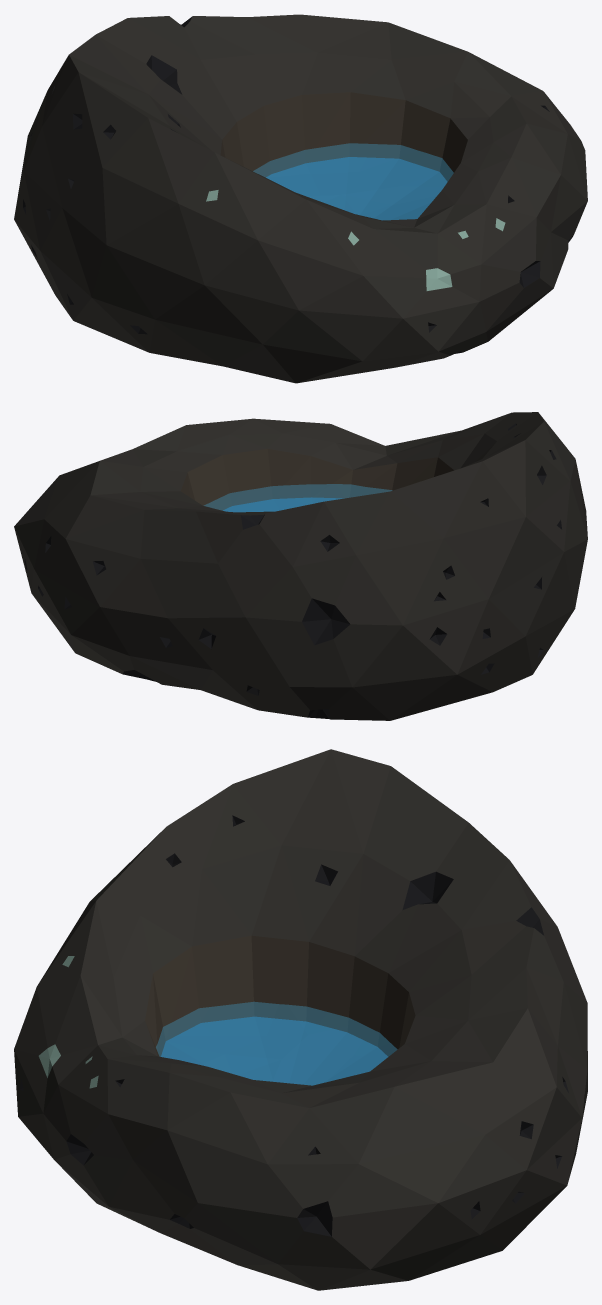
The model's file is taheta-stone-basin-336021.glb.
The picture shows the model from 3 angles, top to bottom: view 1: azimuth 30°, elevation 25°; view 2: azimuth 150°, elevation 25°; view 3: azimuth 270°, elevation 25°; orthographic projection. The views are drawn at different scales.
Visible parts, largest first — view 1: stone, water-1; view 2: stone, water-1; view 3: stone, water-1.
Boxes of the visible parts, x1,y1,x2,y2 form: stone: (14,14,587,383); water-1: (253,143,453,220); stone: (14,412,587,720); water-1: (204,484,392,511); stone: (14,749,587,1290); water-1: (156,1002,397,1085).
Bounding box in the file's own units: 1.11 × 0.5533 × 0.95.
